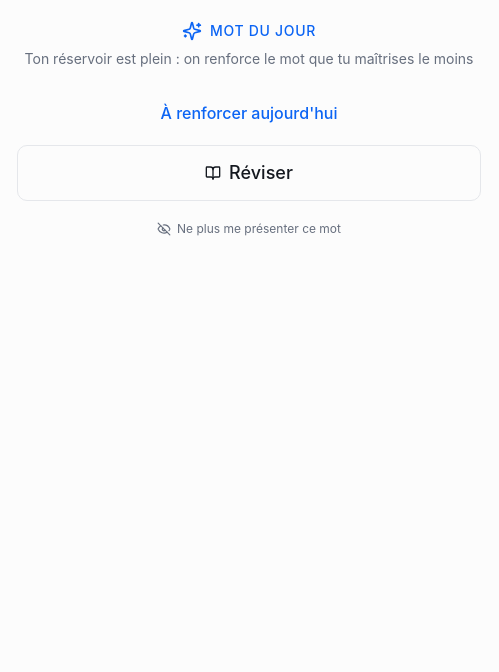
Scenario: DailyWord — série de jours › la fin d'une session de révision compte la journée (indispensable quand le mot du jour est déjà connu)
Click the button "Réviser": (249, 173) [17,145,481,201]
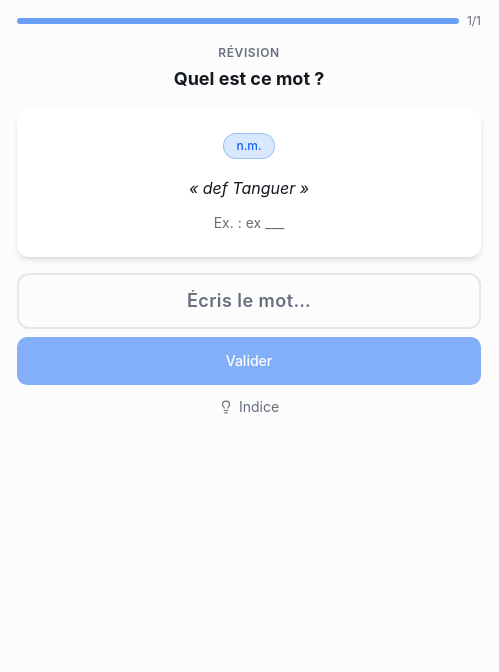
In the field with placeholder "Écris le mot…": (249, 301) [17,273,481,329], type "faux"
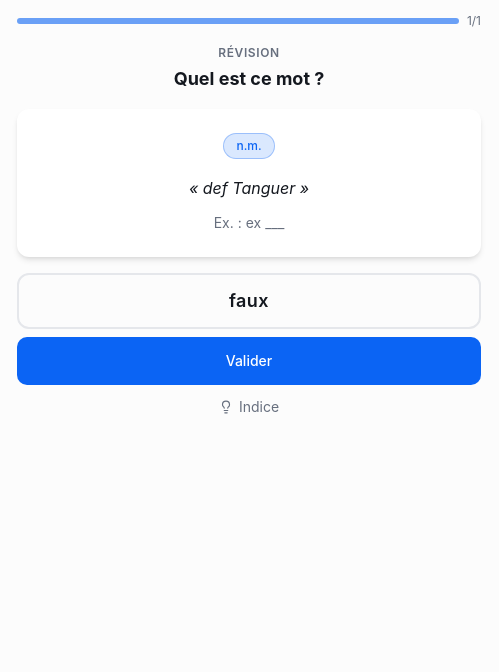
Click the button "Valider": (249, 361) [17,337,481,385]
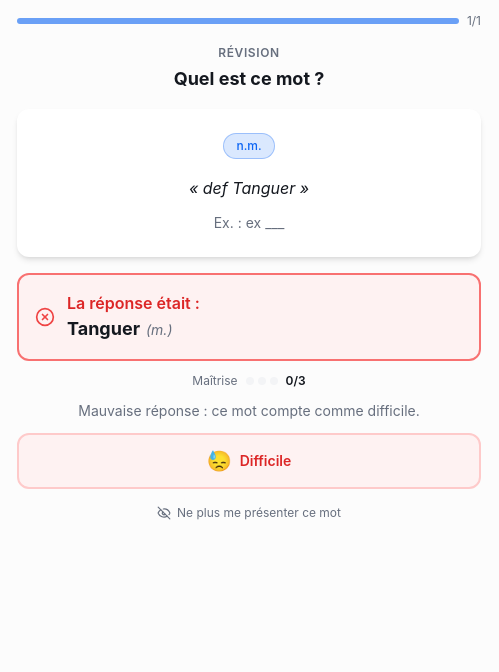
Click the button "😓 Difficile": (249, 461) [17,433,481,489]
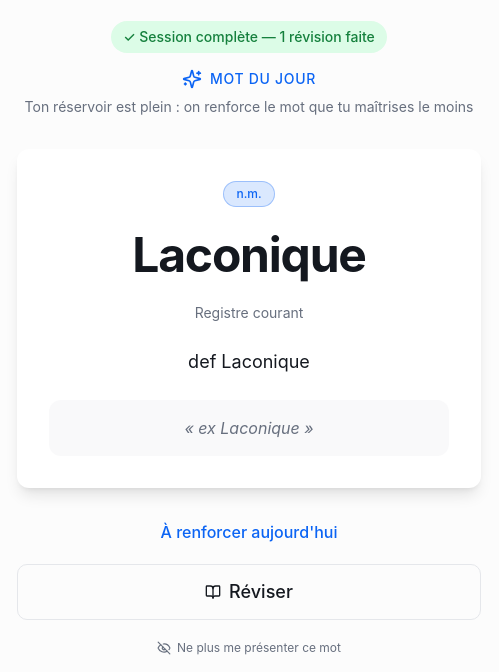
expect the text "À renforcer aujourd'hui" is shown: met, box [160,522,337,542]
